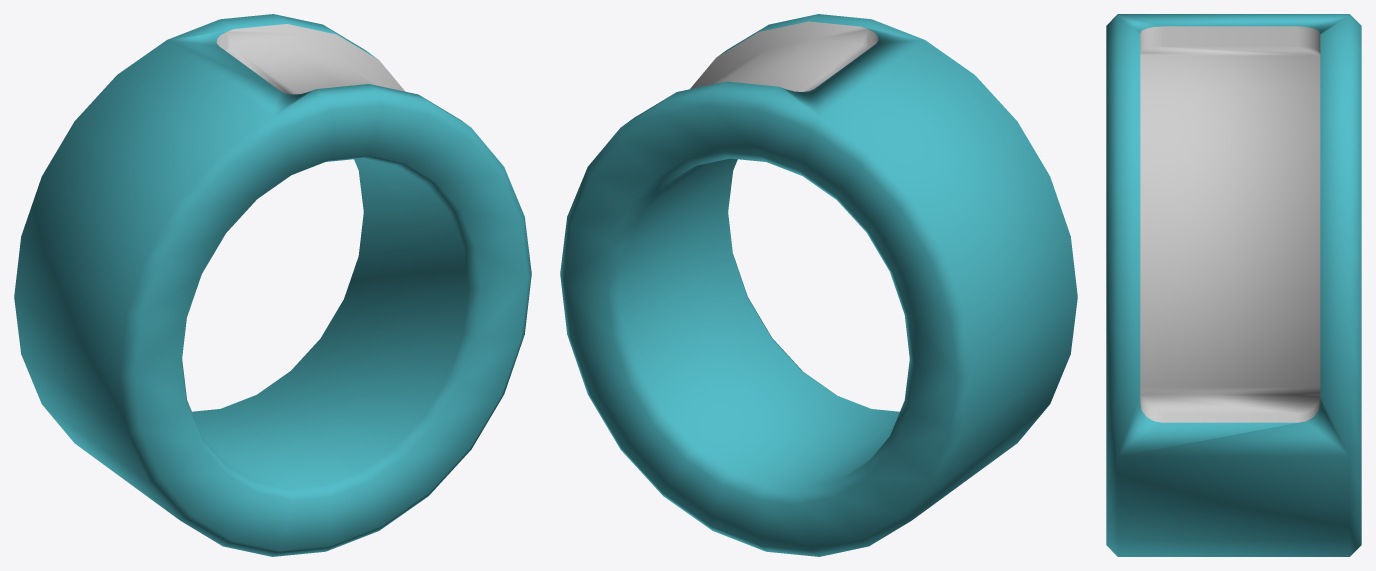
Rendered from BangleWithHole.fbx.
3 views of the same model, side by side, from view 1: azimuth 30°, elevation 25°; view 2: azimuth 150°, elevation 25°; view 3: azimuth 270°, elevation 25° (orthographic). The views are drawn at different scales.
Parts seen in each view (by area): view 1: Bangle; view 2: Bangle; view 3: Bangle.
Part boxes in pixels (x1,y1,x2,y2): Bangle: [14, 14, 531, 556]; Bangle: [560, 14, 1077, 556]; Bangle: [1106, 14, 1361, 556].
Bounding box in the file's own units: 6.23 × 6.58 × 3.05.
